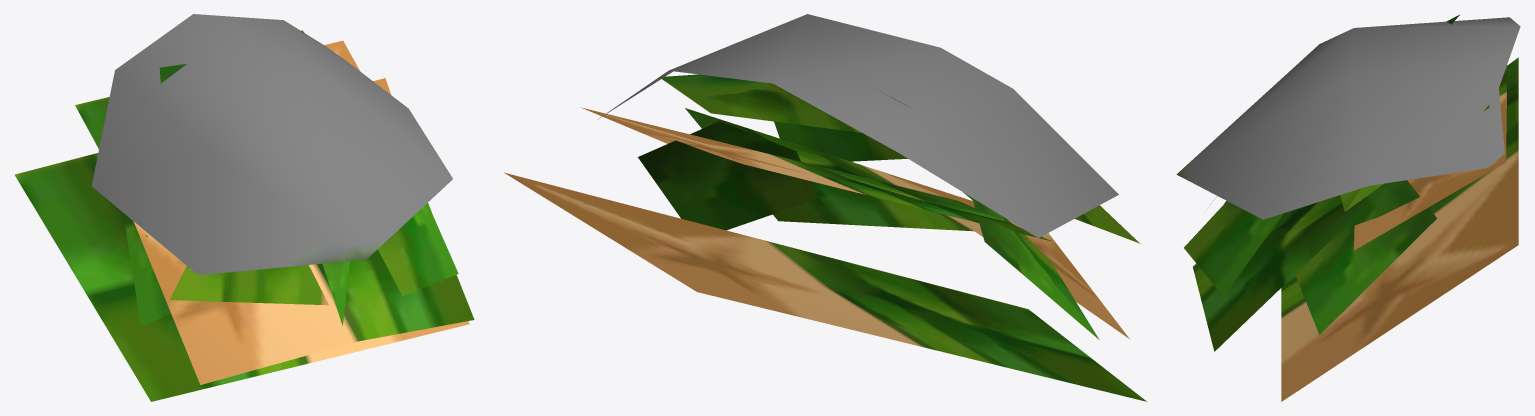
The model's file is fg_bushE_2_s.dae.
3 renders of one model, left to right at view 1: azimuth 30°, elevation 25°; view 2: azimuth 150°, elevation 25°; view 3: azimuth 270°, elevation 25°, orthographic. The views are drawn at different scales.
Visible parts, largest first — view 1: fg_bushE_2_s; view 2: fg_bushE_2_s; view 3: fg_bushE_2_s.
Part boxes in pixels (<box>): fg_bushE_2_s: <box>15,14,474,401</box>; fg_bushE_2_s: <box>504,14,1146,401</box>; fg_bushE_2_s: <box>1176,14,1520,401</box>.
Bounding box in the file's own units: 50.84 × 35.23 × 38.03.
1 material, 1 textured.
